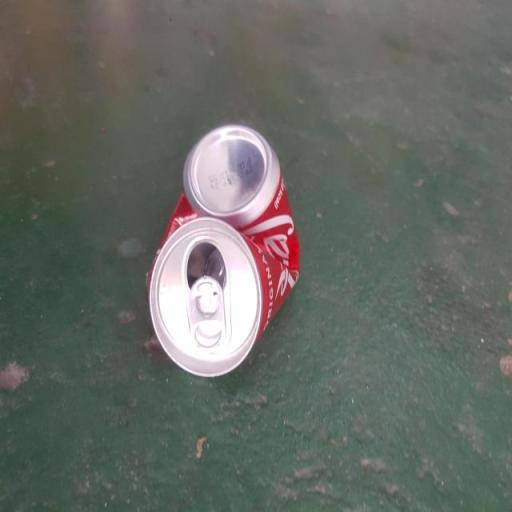metal: (124, 110, 336, 401)
